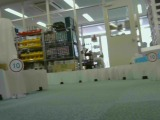speed_10: (7, 58, 24, 73), (146, 51, 158, 63)
